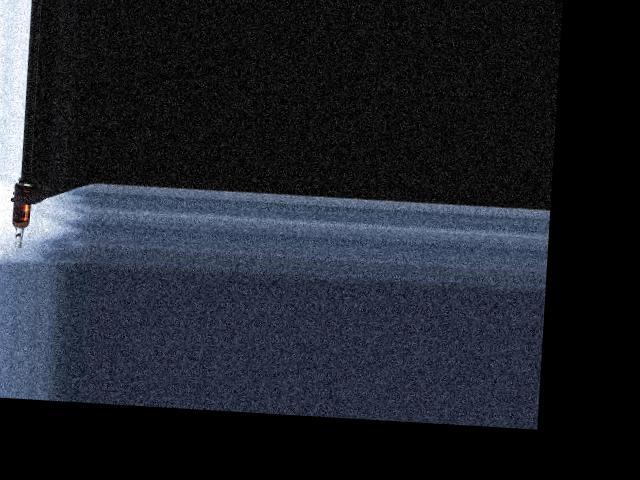beer: (12, 183, 32, 248)
